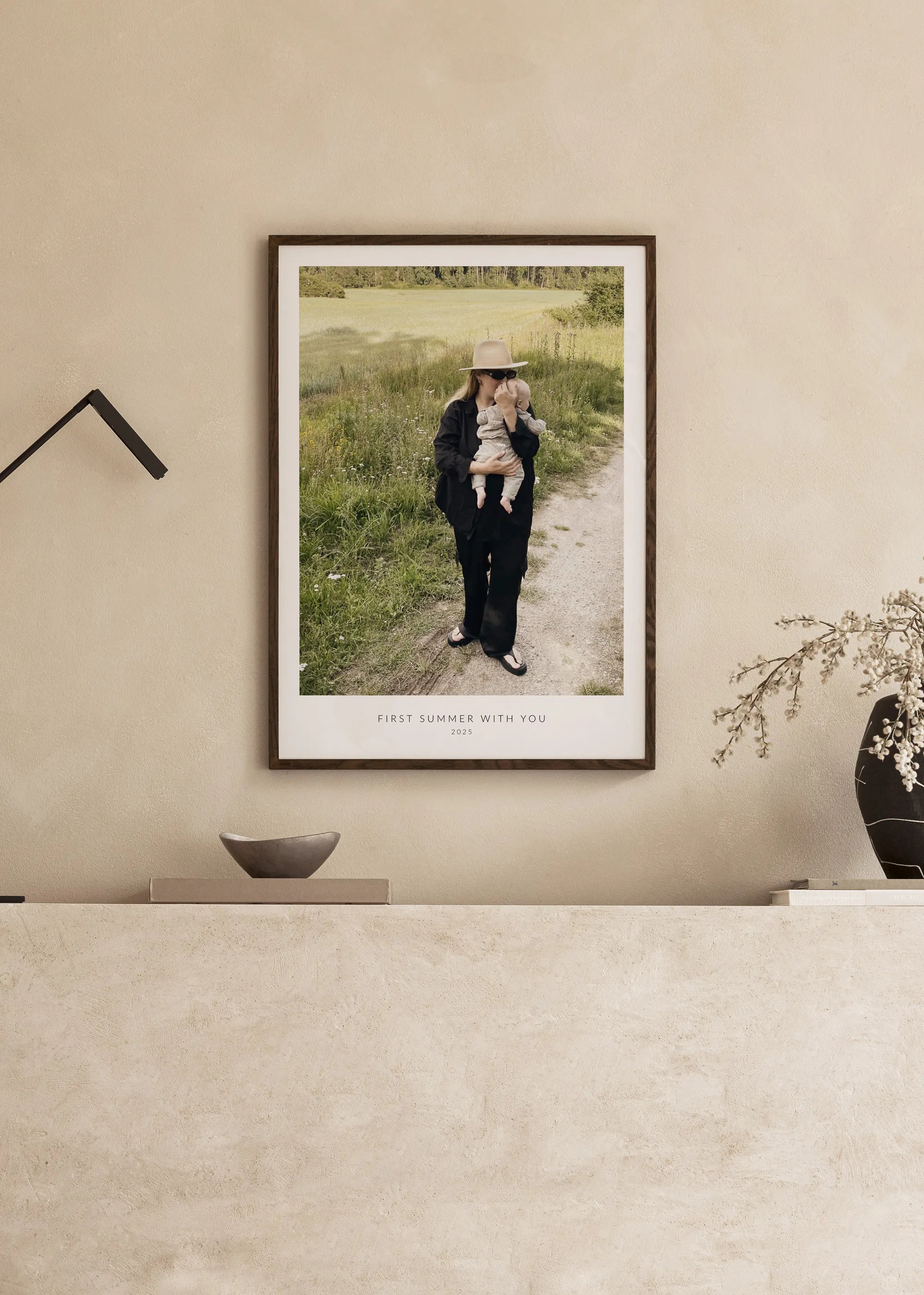painting: (265, 231, 659, 772)
